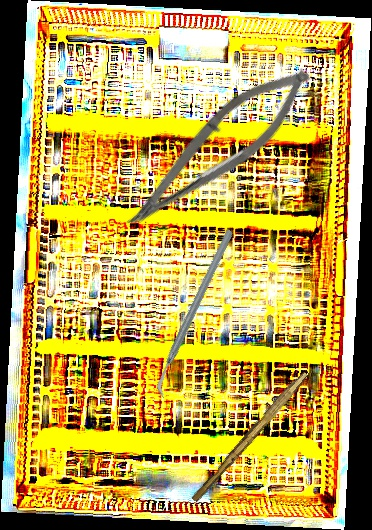Chopper: (106, 228, 284, 400)
Micro Scissor: (113, 46, 324, 254)
Scalpel Handle: (190, 367, 309, 506)
